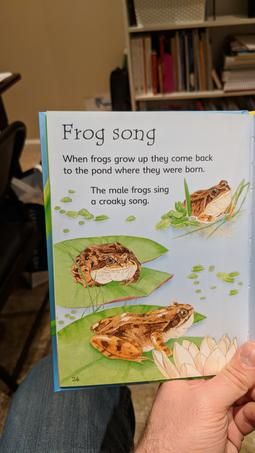text block: (59, 150, 217, 175), (58, 120, 159, 148), (87, 182, 174, 210)
